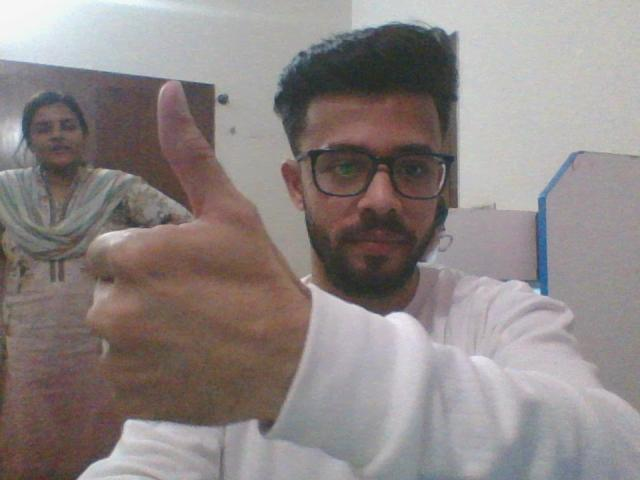thumbs-up: (76, 80, 286, 421)
